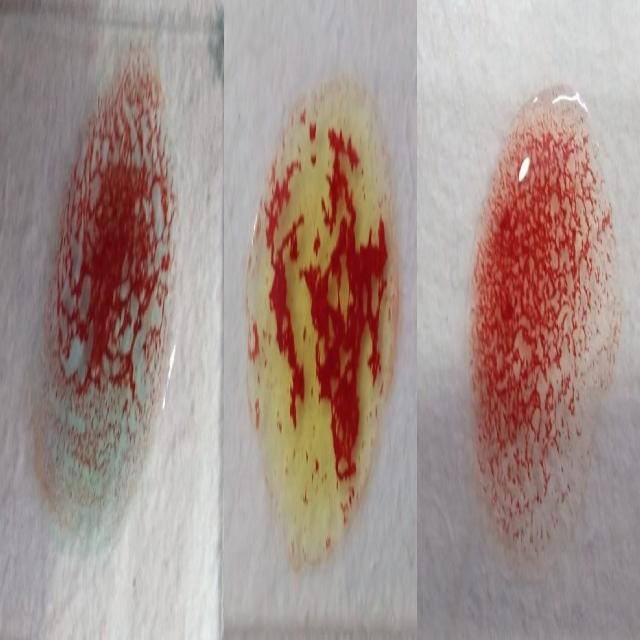A: (32, 55, 173, 539)
B: (245, 101, 391, 551)
D: (474, 88, 604, 583)
